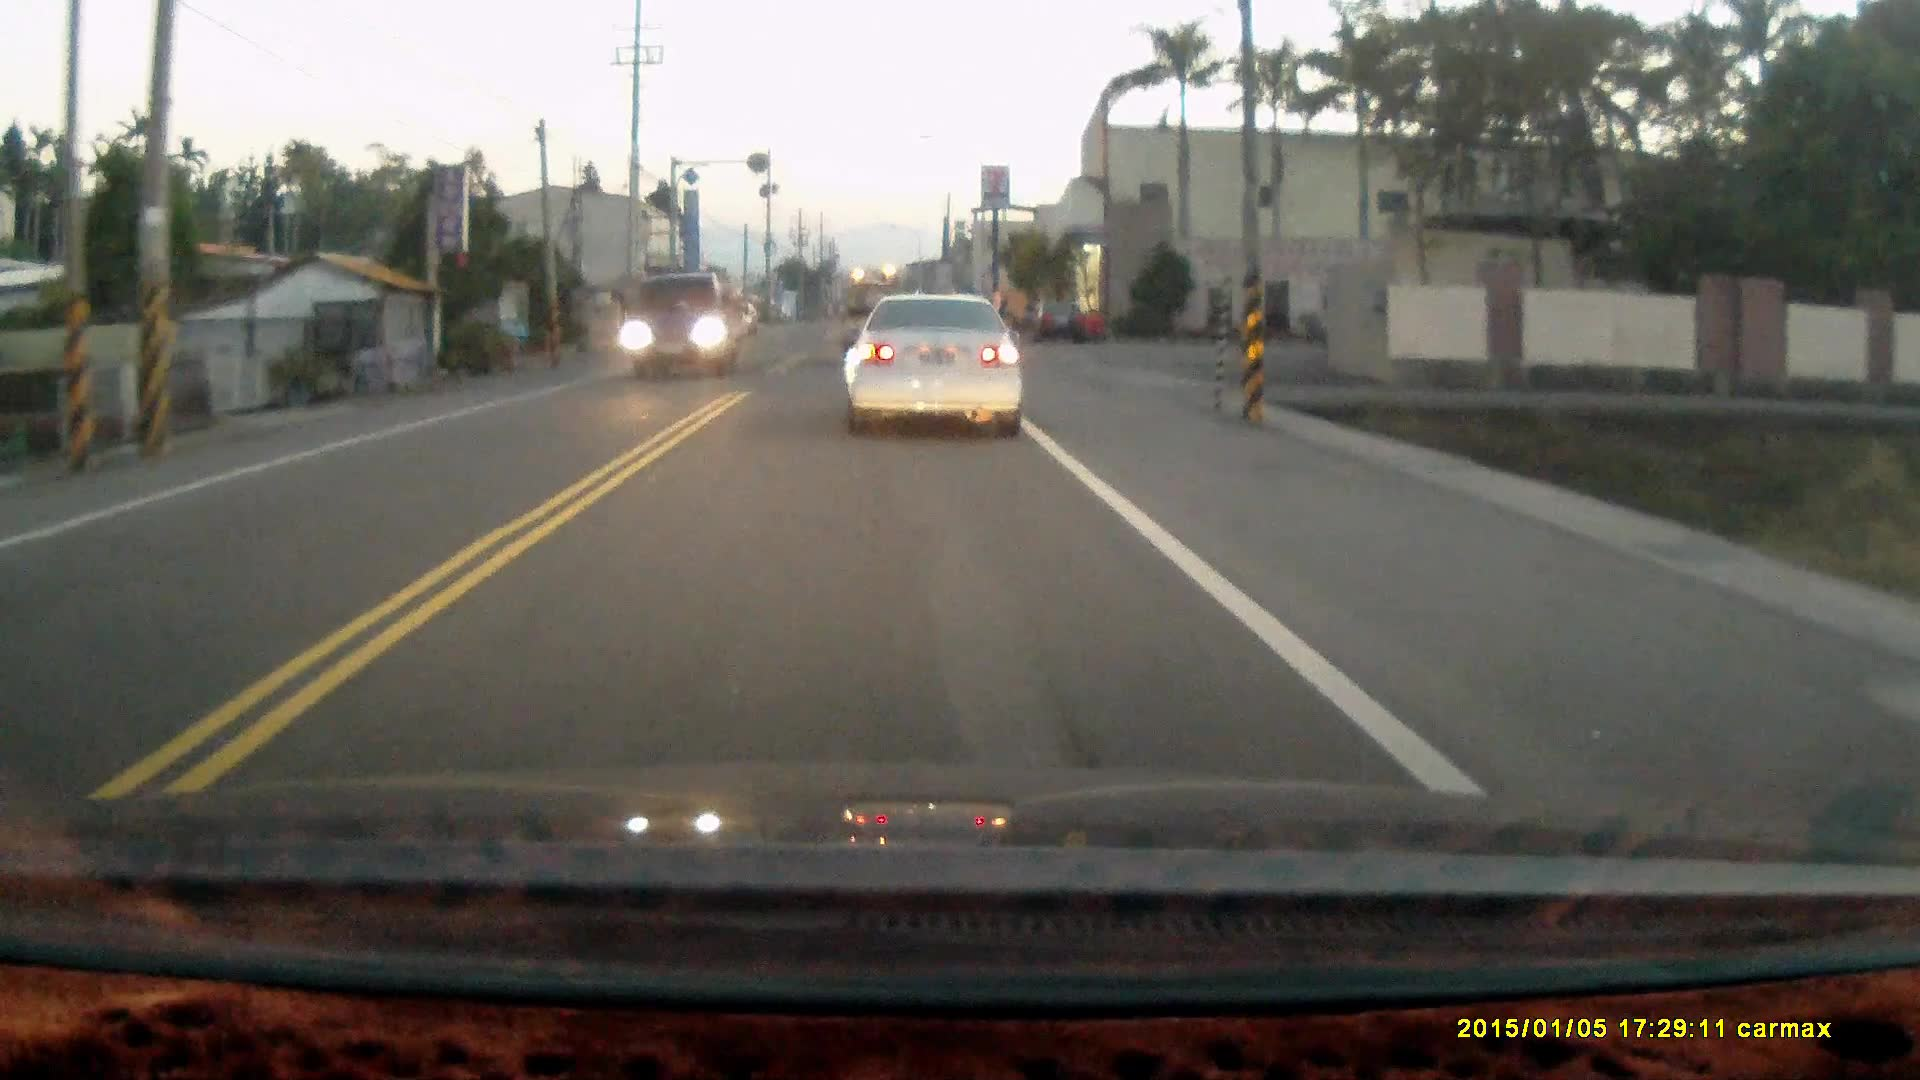vehicle: (851, 286, 1026, 439), (626, 268, 745, 378), (1033, 291, 1091, 340), (715, 303, 764, 340)
